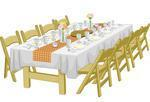chair: (75, 45, 116, 98), (1, 33, 38, 82), (108, 36, 133, 81), (121, 29, 144, 66)
diningtable: (10, 18, 136, 95)
